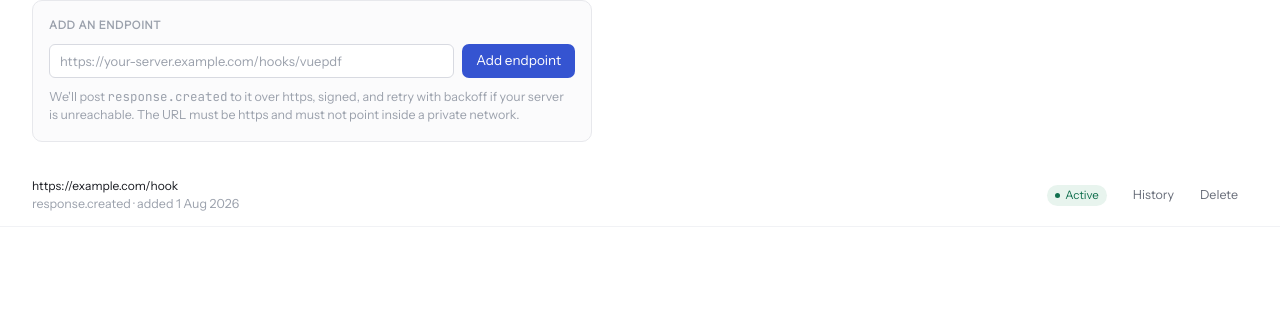
Test case: WebhooksPanel › the delivery history › says plainly when nothing has been sent yet
Click the button with test id "deliveries-w1".
click(1153, 196)  # box [1123,180,1184,212]
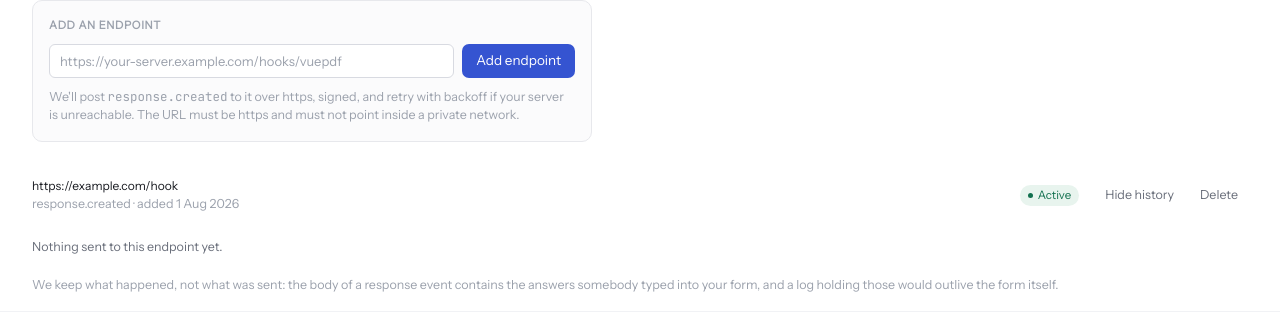
Check: the text "Nothing sent to this endpoint yet." is shown, box [32,238,222,254]
